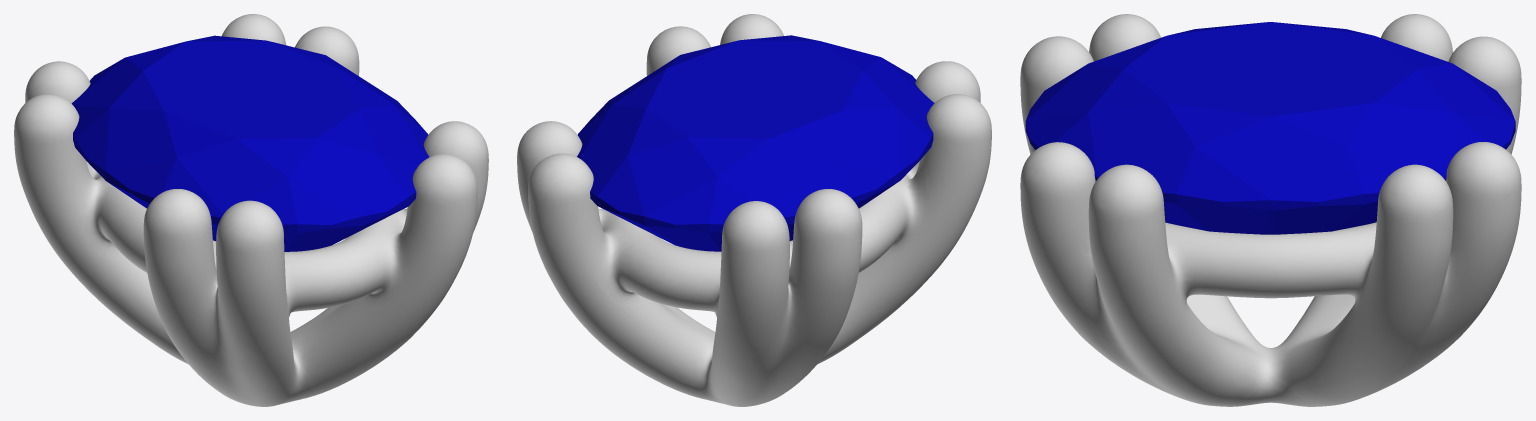
Rendered from Oval.glb.
The picture shows the model from 3 angles, left to right: view 1: azimuth 30°, elevation 25°; view 2: azimuth 150°, elevation 25°; view 3: azimuth 270°, elevation 25°; orthographic projection. The views are drawn at different scales.
Parts seen in each view (by area): view 1: /GSMOD388300- DOUBLE PRONG_OVAL_IJ.3dm, Diamond_Oval; view 2: /GSMOD388300- DOUBLE PRONG_OVAL_IJ.3dm, Diamond_Oval; view 3: /GSMOD388300- DOUBLE PRONG_OVAL_IJ.3dm, Diamond_Oval.
Boxes of the visible parts, x1=… form: /GSMOD388300- DOUBLE PRONG_OVAL_IJ.3dm: x1=14, y1=14, x2=488, y2=406; Diamond_Oval: x1=71, y1=35, x2=429, y2=251; /GSMOD388300- DOUBLE PRONG_OVAL_IJ.3dm: x1=517, y1=14, x2=991, y2=406; Diamond_Oval: x1=577, y1=35, x2=934, y2=251; /GSMOD388300- DOUBLE PRONG_OVAL_IJ.3dm: x1=1020, y1=14, x2=1521, y2=406; Diamond_Oval: x1=1025, y1=22, x2=1515, y2=234.
Bounding box in the file's own units: 7.82 × 6.62 × 9.06.
